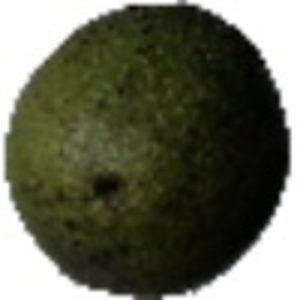abacate: (3, 3, 295, 295)
